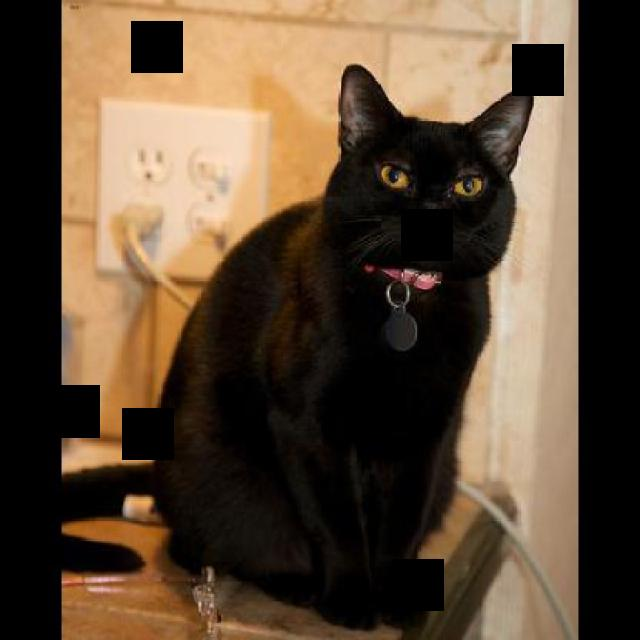unauthorized: (60, 61, 534, 634)
